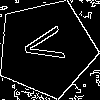V: (21, 24, 75, 67)
